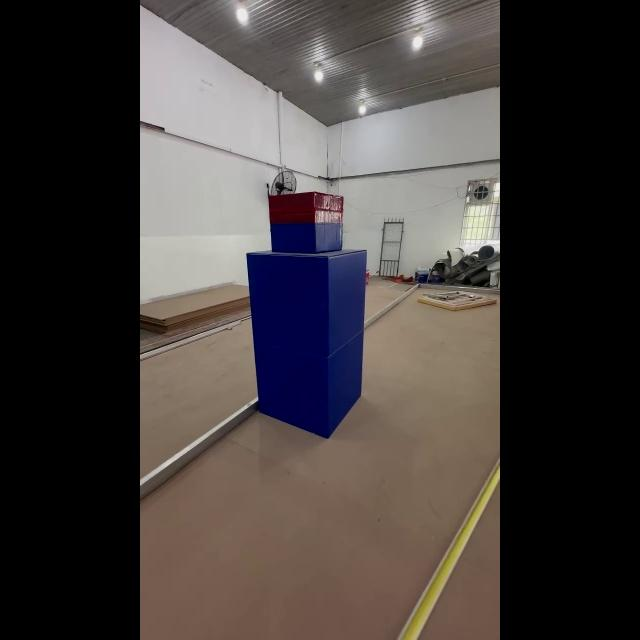earth_block: (246, 249, 371, 354)
sky_block: (268, 192, 351, 254)
